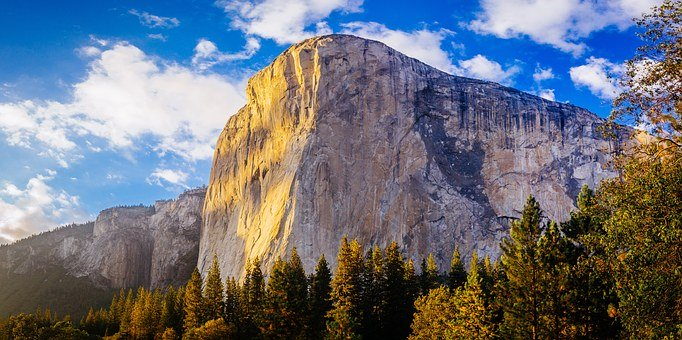mountain: (210, 54, 682, 284)
sky: (5, 3, 256, 191)
